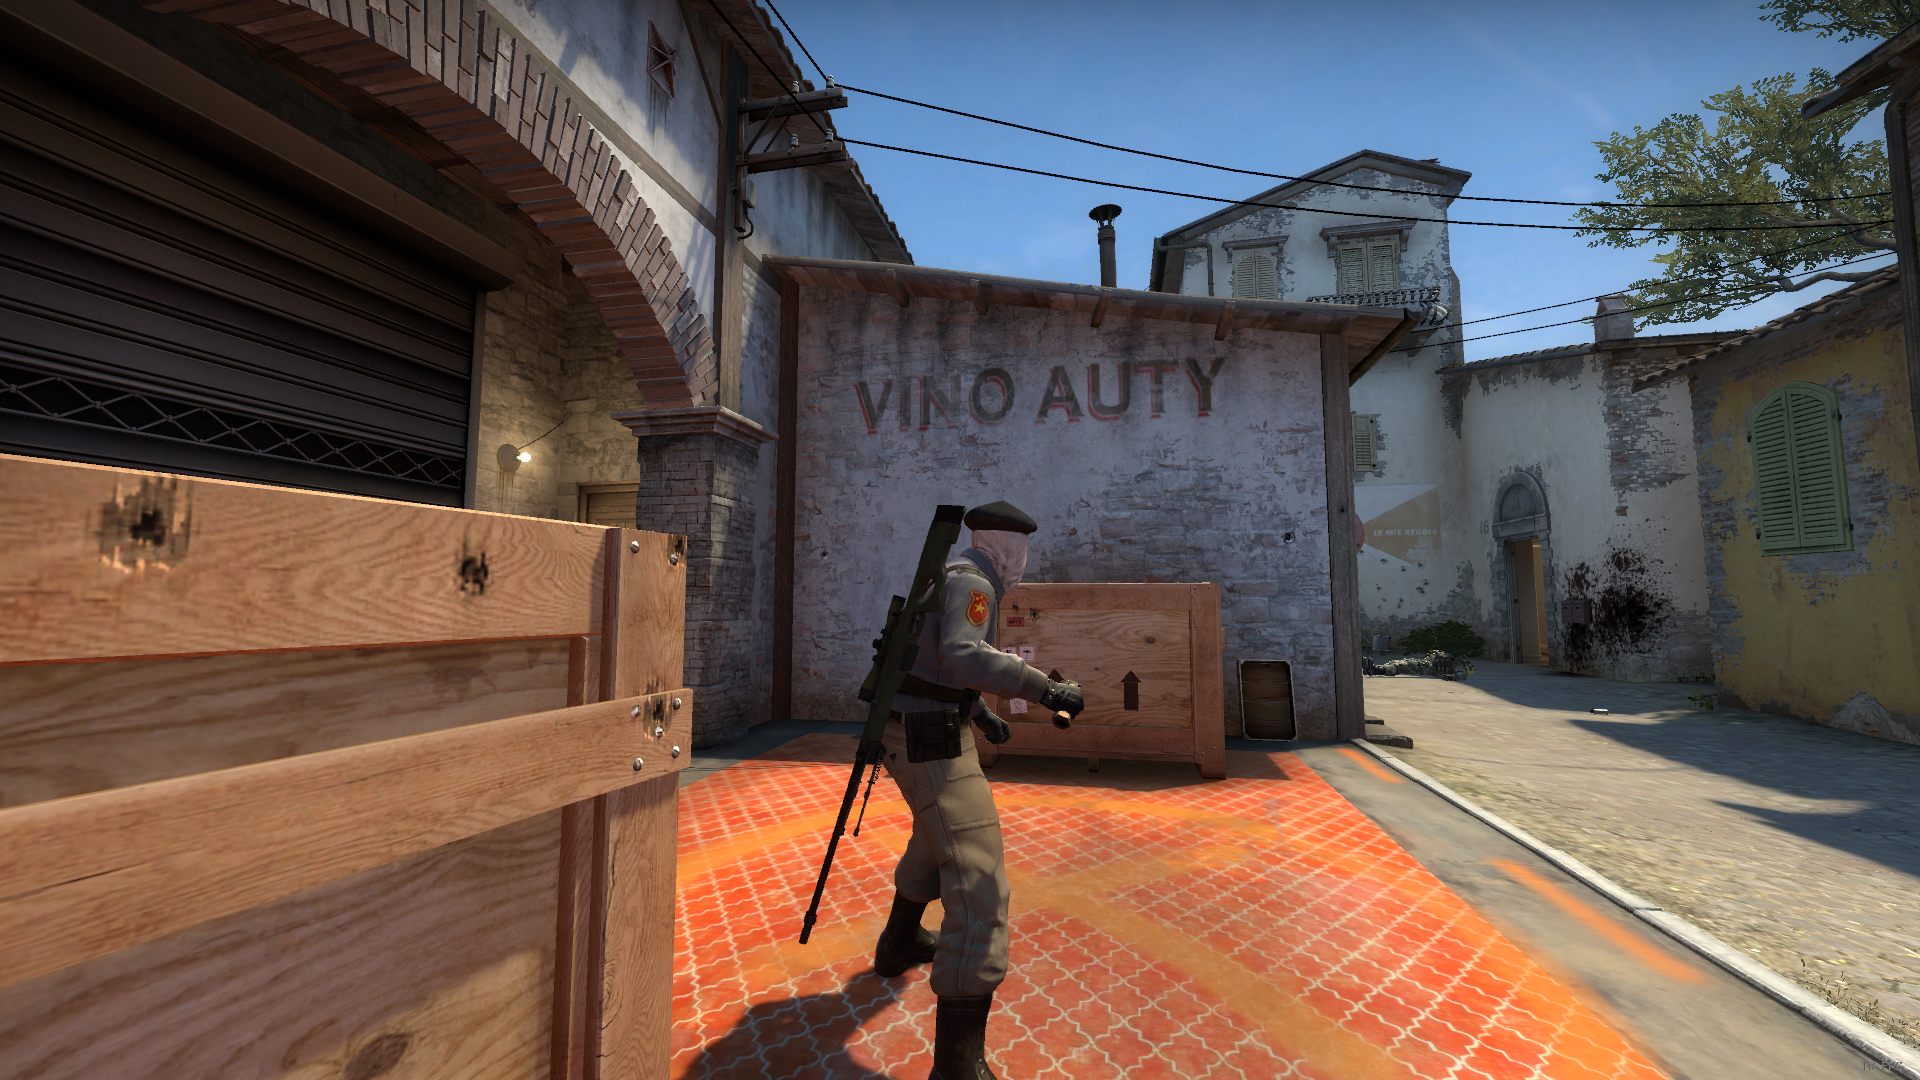t: (840, 495, 1087, 1080)
